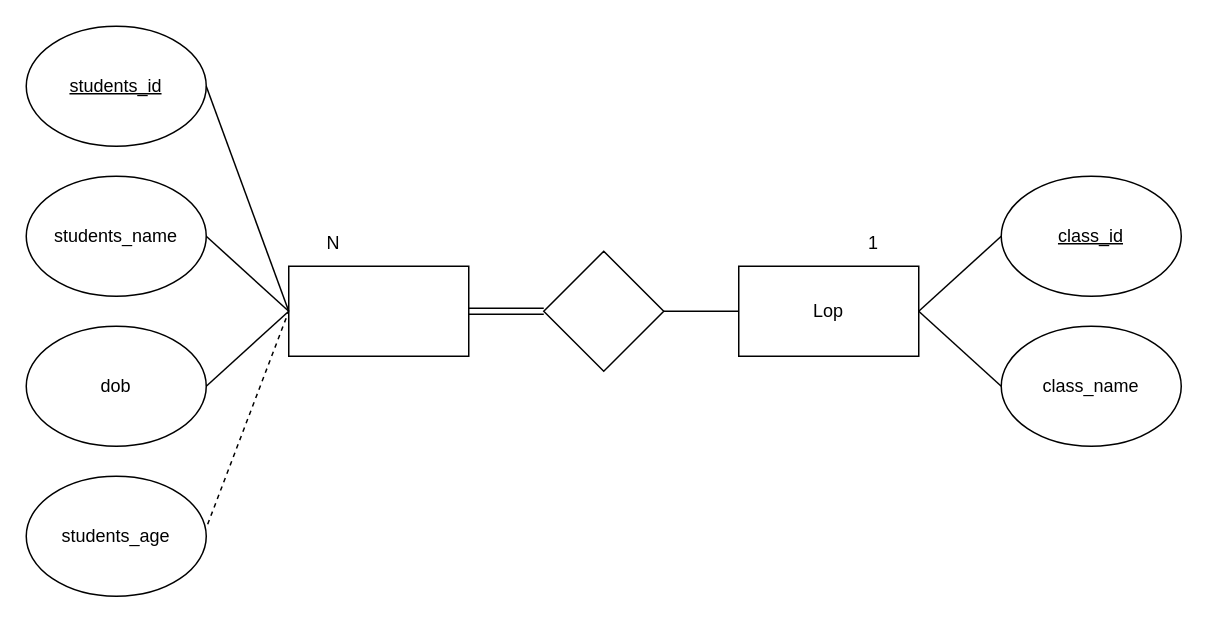
This 1208x623 diagram has some shape labels left out. Each missing label, with the centre of its shape:
"SinhVien" belongs at point 378,310.
"ThuocVe" belongs at point 603,310.
